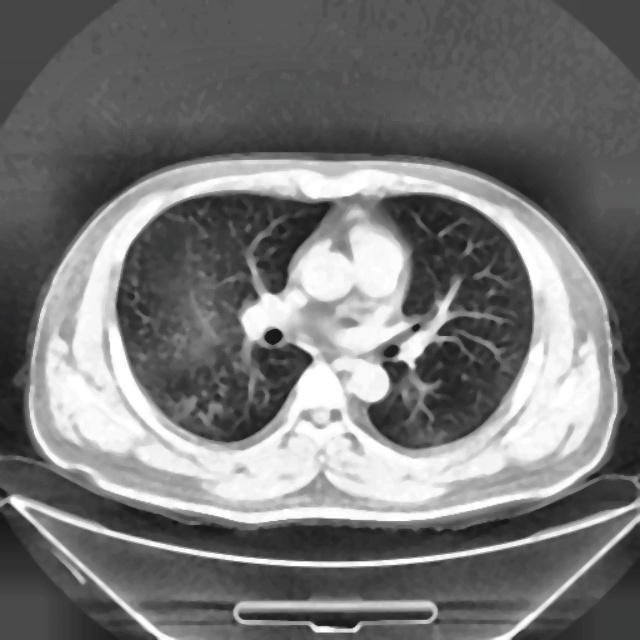covid: (21, 150, 627, 532)
